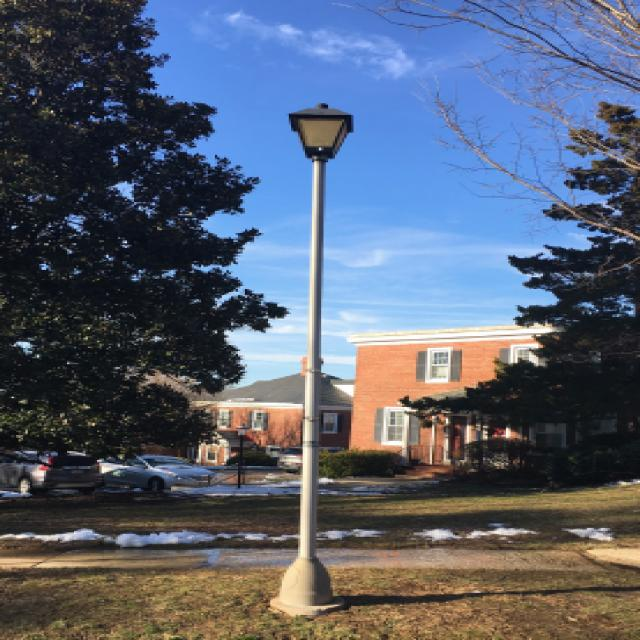Electric pole: (270, 103, 354, 618)
